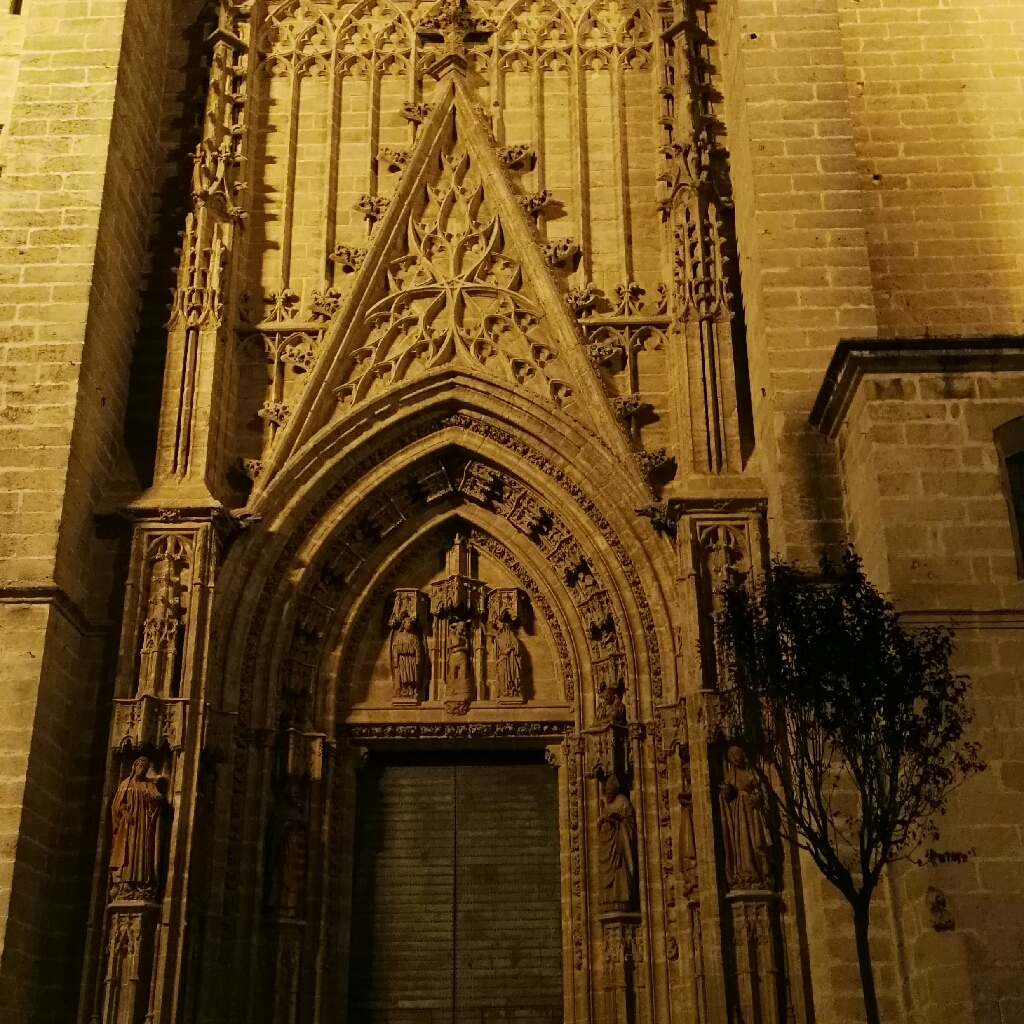arco-apuntado: (229, 360, 654, 700)
